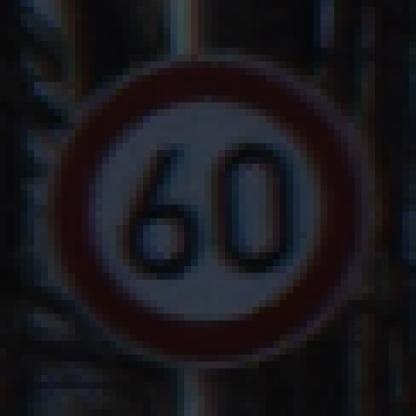Speed Limit 60: (48, 57, 358, 360)
